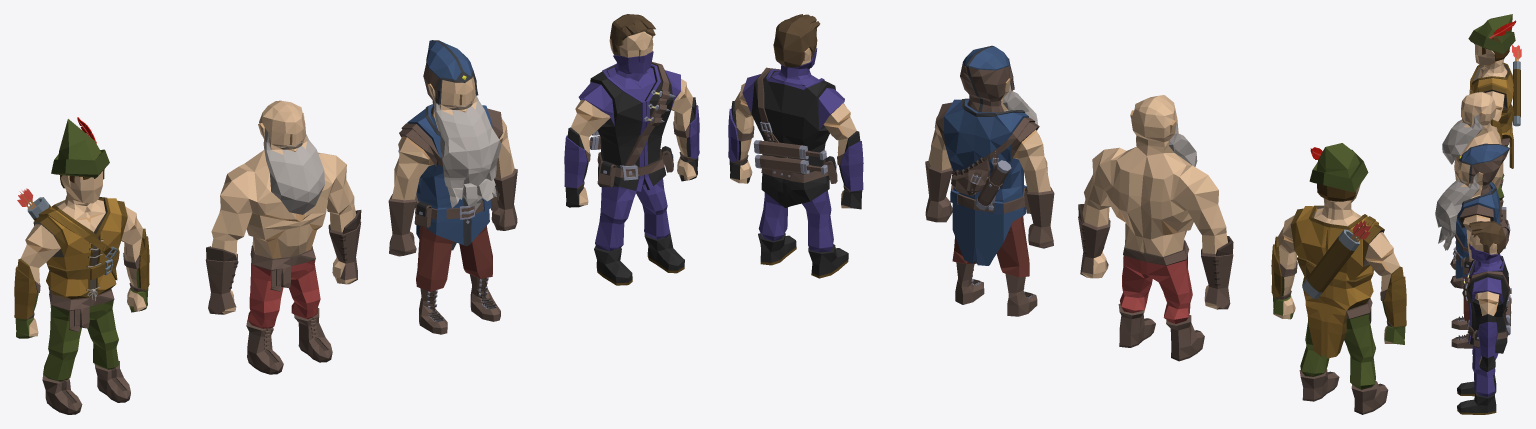
File: Player_meshes_v2.fbx
3 renders of one model, left to right at view 1: azimuth 30°, elevation 25°; view 2: azimuth 150°, elevation 25°; view 3: azimuth 270°, elevation 25°, orthographic. The views are drawn at different scales.
Visible parts, largest first — view 1: warrior_02atri, mage_05atri, archer_03tri, rogue_03atri; view 2: warrior_02atri, mage_05atri, archer_03tri, rogue_03atri; view 3: rogue_03atri, mage_05atri, archer_03tri, warrior_02atri.
Boxes of the visible parts, x1=… form: warrior_02atri: x1=205, y1=100, x2=361, y2=374; mage_05atri: x1=388, y1=40, x2=517, y2=334; archer_03tri: x1=14, y1=117, x2=149, y2=414; rogue_03atri: x1=564, y1=14, x2=699, y2=285; warrior_02atri: x1=1078, y1=95, x2=1233, y2=361; mage_05atri: x1=925, y1=45, x2=1054, y2=316; archer_03tri: x1=1271, y1=143, x2=1406, y2=414; rogue_03atri: x1=728, y1=14, x2=863, y2=278; rogue_03atri: x1=1457, y1=221, x2=1511, y2=414; mage_05atri: x1=1435, y1=143, x2=1510, y2=348; archer_03tri: x1=1468, y1=14, x2=1521, y2=206; warrior_02atri: x1=1442, y1=92, x2=1503, y2=288.
Size of the model in its own units: 2493 by 930 by 376.
